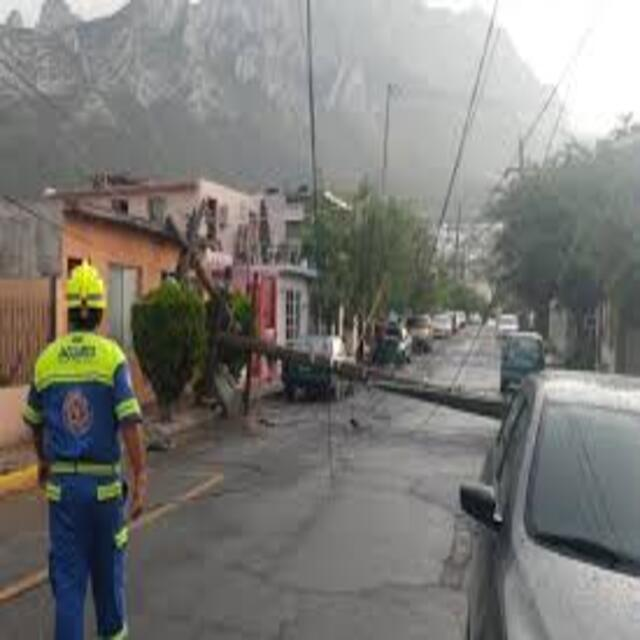Inclined Pole: (192, 333, 507, 419)
